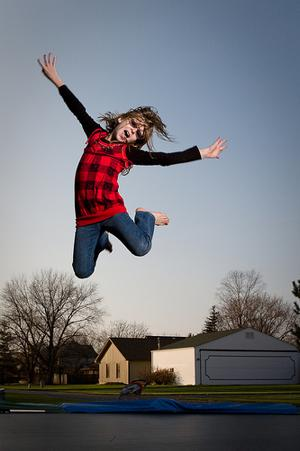person: (38, 49, 226, 285)
